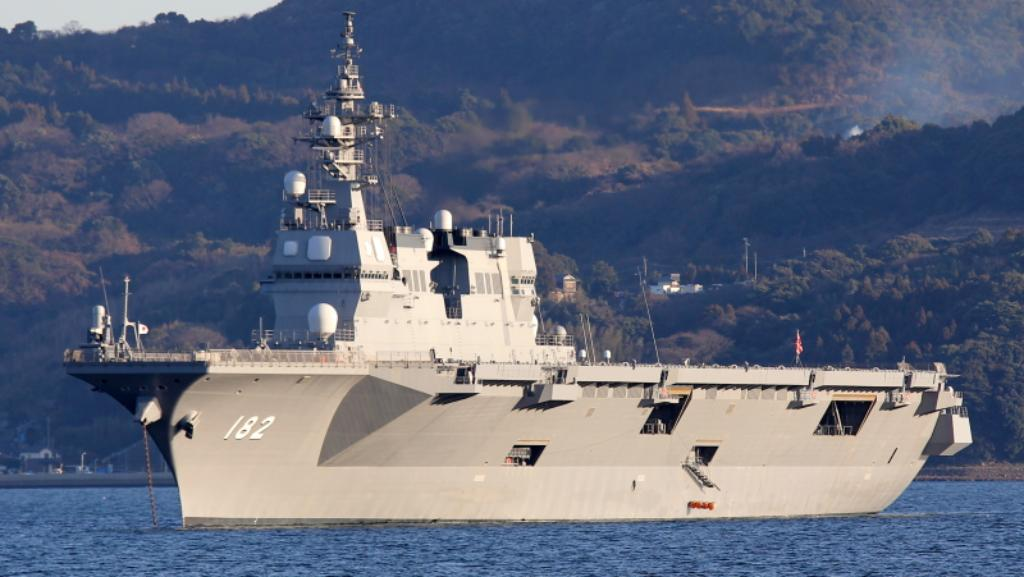Warship: (62, 2, 978, 536)
